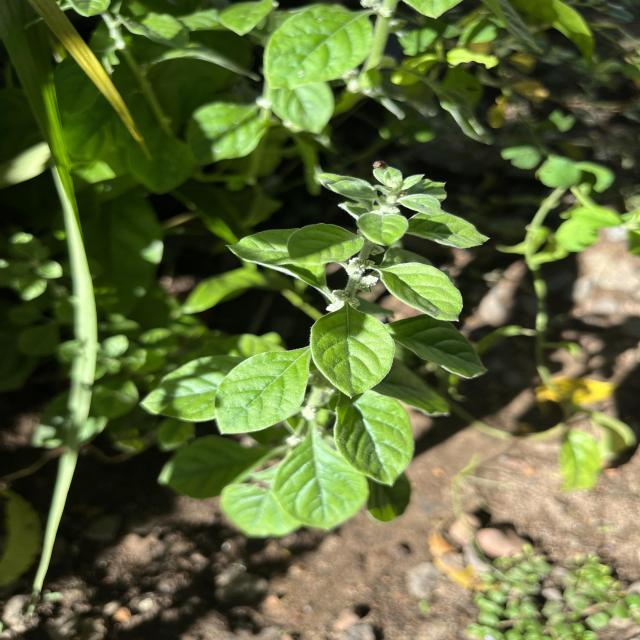Aerva lanata: (304, 304, 398, 402), (211, 344, 311, 436), (377, 260, 467, 324)
